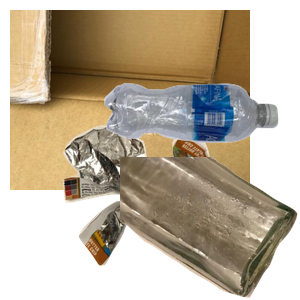cardboard: (10, 10, 250, 190)
glass: (120, 157, 300, 300)
plastic: (102, 81, 300, 216)
trash: (61, 123, 273, 300)
